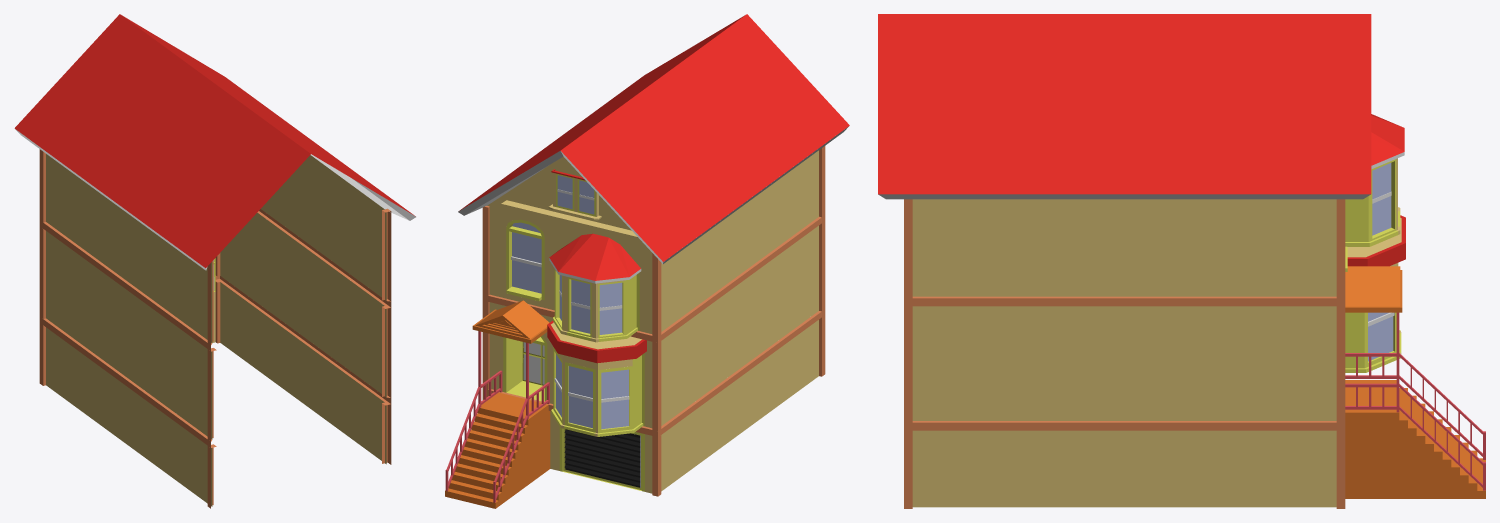
Rendered from house1.glb.
3 views of the same model, side by side, from view 1: azimuth 30°, elevation 25°; view 2: azimuth 150°, elevation 25°; view 3: azimuth 270°, elevation 25° (orthographic). The views are drawn at different scales.
Visible parts, largest first — view 1: Object_90.001, Object_77.001, Object_78.001, Object_79.001, Object_88.001; view 2: Object_90.001, Object_77.001, Object_80.001, Object_84.001, Object_86.001, Object_78.001, Object_79.001, Object_89.001, Object_88.001, Object_81.001, Object_82.001, Object_87.001 (+1 smaller); view 3: Object_90.001, Object_77.001, Object_80.001, Object_79.001, Object_78.001, Object_84.001, Object_88.001, Object_82.001, Object_86.001, Object_81.001.
Boxes of the visible parts, bbox=[...] form: Object_90.001: bbox=[46, 154, 386, 506]; Object_77.001: bbox=[14, 14, 415, 268]; Object_78.001: bbox=[39, 149, 391, 508]; Object_79.001: bbox=[39, 209, 391, 447]; Object_88.001: bbox=[15, 129, 415, 270]; Object_90.001: bbox=[487, 150, 818, 493]; Object_77.001: bbox=[459, 14, 849, 363]; Object_80.001: bbox=[445, 300, 550, 508]; Object_84.001: bbox=[503, 173, 644, 491]; Object_86.001: bbox=[512, 175, 628, 429]; Object_78.001: bbox=[482, 146, 825, 496]; Object_79.001: bbox=[482, 215, 825, 437]; Object_89.001: bbox=[564, 429, 640, 487]; Object_88.001: bbox=[458, 126, 848, 283]; Object_81.001: bbox=[445, 331, 549, 502]; Object_82.001: bbox=[447, 371, 548, 499]; Object_87.001: bbox=[511, 189, 629, 402]; Object_90.001: bbox=[912, 158, 1401, 507]; Object_77.001: bbox=[878, 14, 1405, 266]; Object_80.001: bbox=[1345, 266, 1485, 498]; Object_79.001: bbox=[904, 296, 1345, 430]; Object_78.001: bbox=[904, 199, 1345, 508]; Object_84.001: bbox=[1345, 159, 1401, 372]; Object_88.001: bbox=[878, 152, 1404, 199]; Object_82.001: bbox=[1345, 353, 1482, 487]; Object_86.001: bbox=[1368, 163, 1393, 361]; Object_81.001: bbox=[1356, 312, 1485, 490].
Size of the model in its own units: 4.42 by 6.81 by 8.56.
